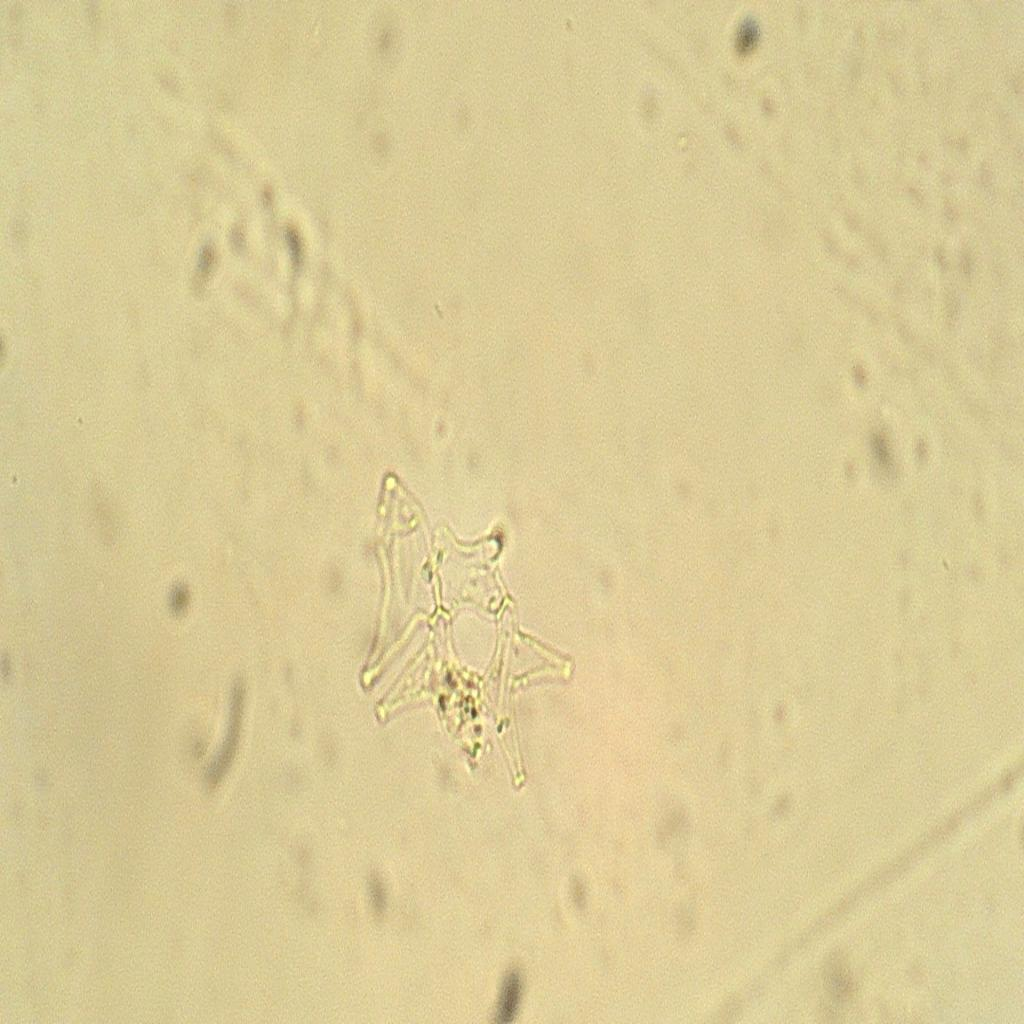Pediastrum_1F0: (351, 428, 586, 844)
